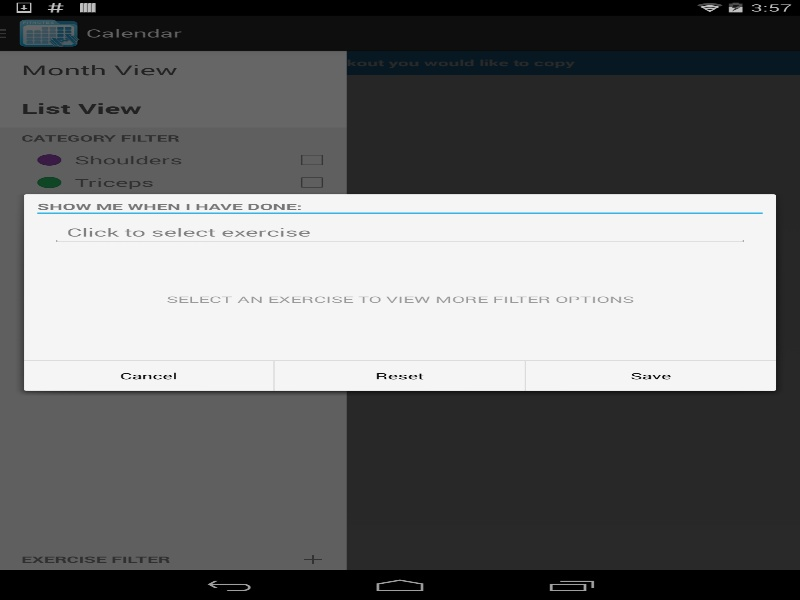Button: (274, 360, 524, 390), (526, 360, 776, 390), (24, 360, 273, 390)
Input: (50, 219, 749, 244)
